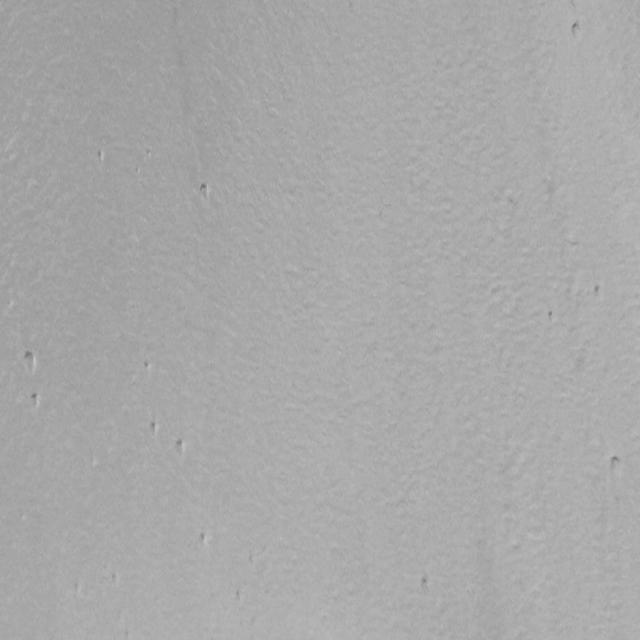pin holes: (566, 17, 588, 44), (20, 350, 40, 378), (606, 455, 627, 481), (416, 572, 436, 596), (195, 182, 215, 204), (588, 280, 608, 300), (172, 437, 188, 459), (28, 391, 43, 412), (195, 532, 212, 549), (232, 587, 246, 604), (148, 420, 161, 437), (592, 285, 605, 302), (546, 308, 559, 324), (140, 359, 153, 375), (95, 150, 107, 166)
